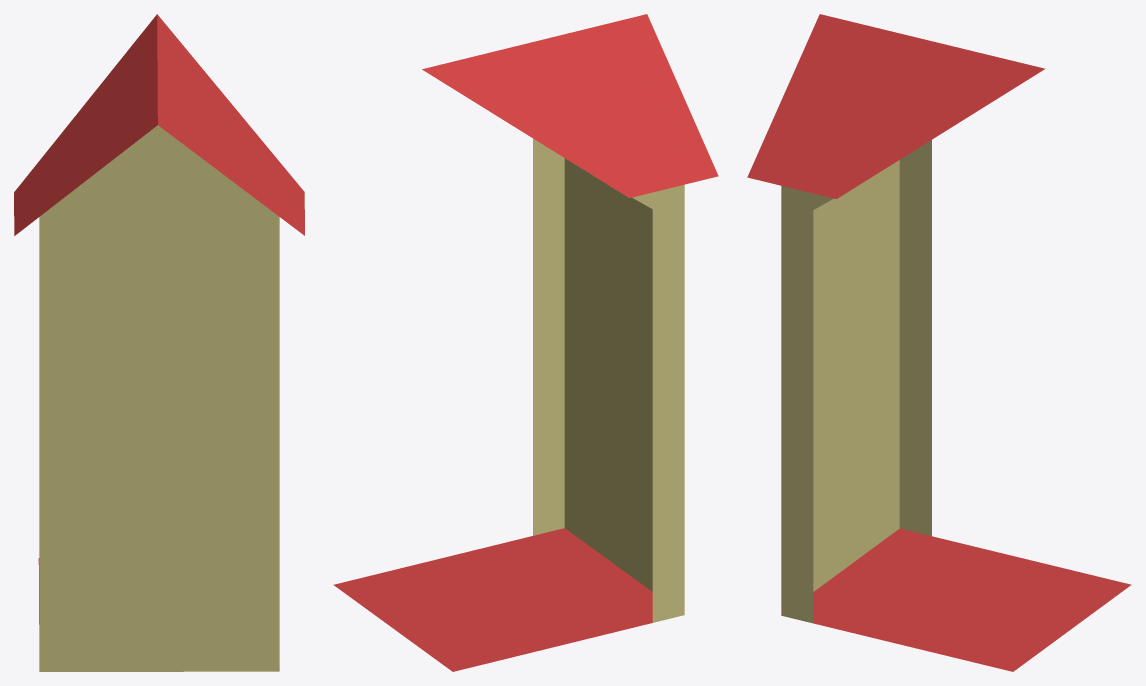
The picture shows the model from 3 angles, left to right: view 1: azimuth 30°, elevation 25°; view 2: azimuth 150°, elevation 25°; view 3: azimuth 270°, elevation 25°; orthographic projection.
Bounding box in the file's own units: 7.48 × 7.7 × 12.2.
